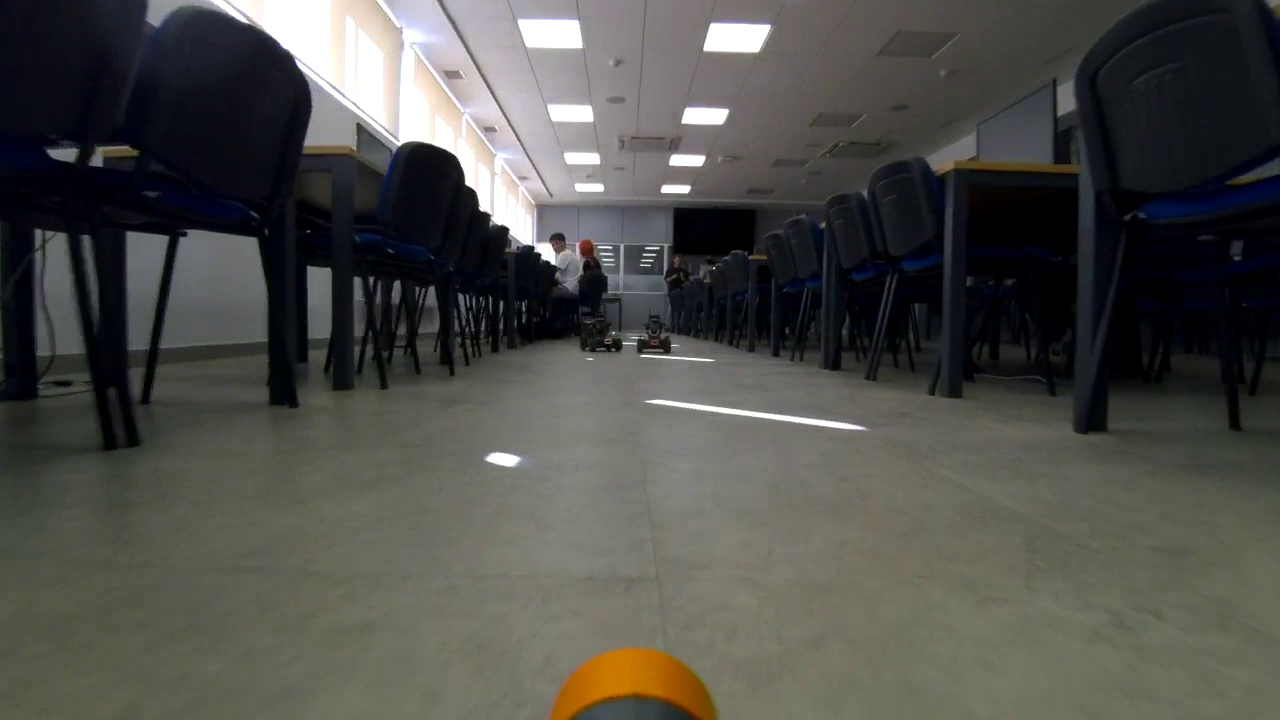robot: (583, 316, 629, 355), (637, 313, 678, 353)
